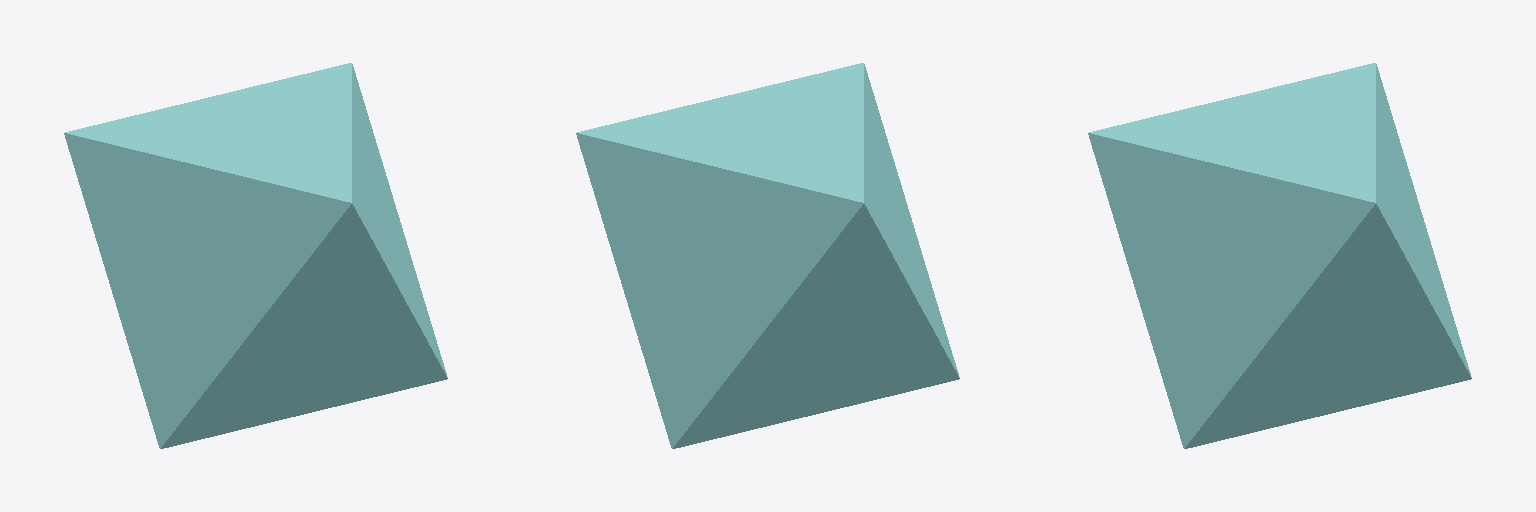
3 views of the same model, side by side, from view 1: azimuth 30°, elevation 25°; view 2: azimuth 150°, elevation 25°; view 3: azimuth 270°, elevation 25° (orthographic).
Parts seen in each view (by area): view 1: Octaedron; view 2: Octaedron; view 3: Octaedron.
Part boxes in pixels (bbox=[...]): Octaedron: bbox=[64, 63, 447, 448]; Octaedron: bbox=[576, 63, 959, 448]; Octaedron: bbox=[1088, 63, 1471, 448].
Bounding box in the file's own units: 19.41 × 15.85 × 22.42.